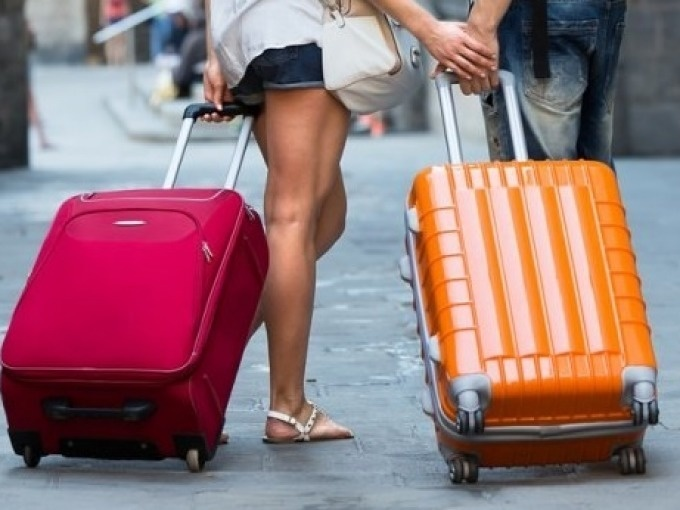luggage: (406, 105, 663, 489), (7, 122, 247, 472)
